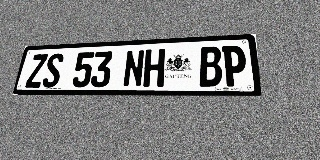3: (90, 51, 113, 87)
5: (72, 52, 95, 87)
B: (199, 46, 222, 87)
H: (143, 49, 165, 87)
N: (122, 50, 145, 87)
P: (222, 45, 248, 86)
S: (41, 53, 64, 88)
Z: (25, 54, 48, 88)
